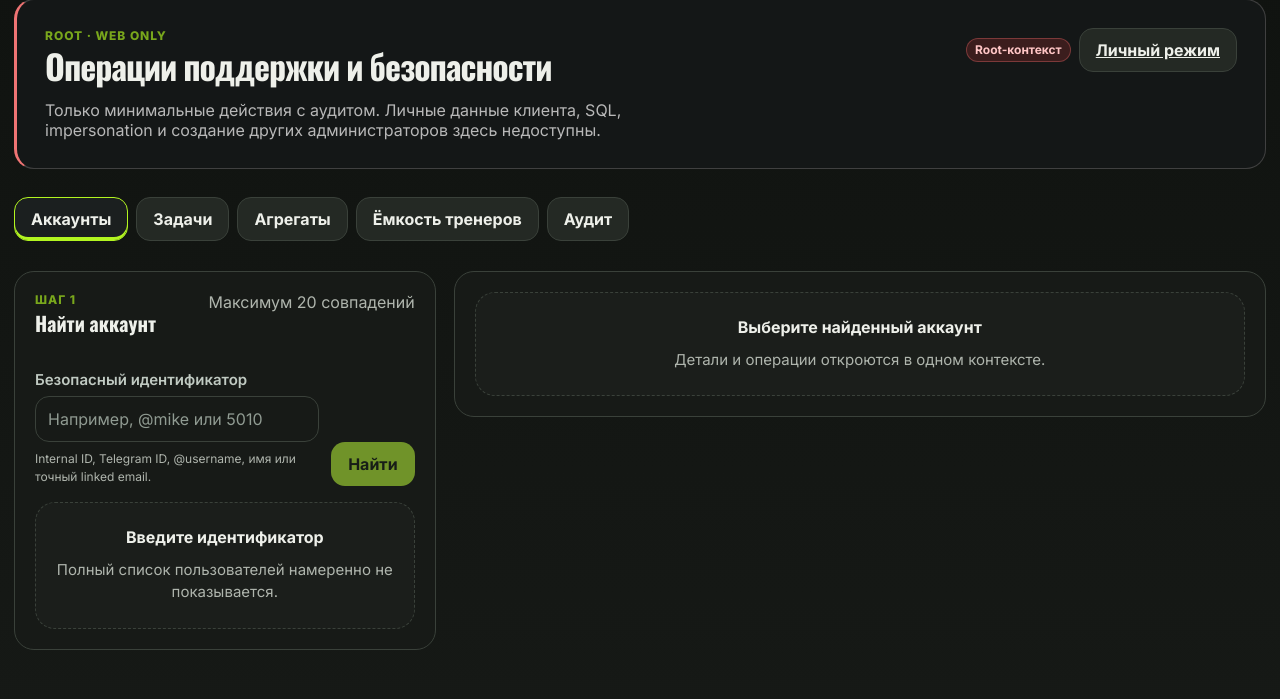
AdminPage › ведёт Root по одному scan path от поиска к деталям и безопасным status rows
Type "@long_support_identifier" into the search field labelled "Безопасный идентификатор" at {"x": 177, "y": 419}, box [35,396,319,442]
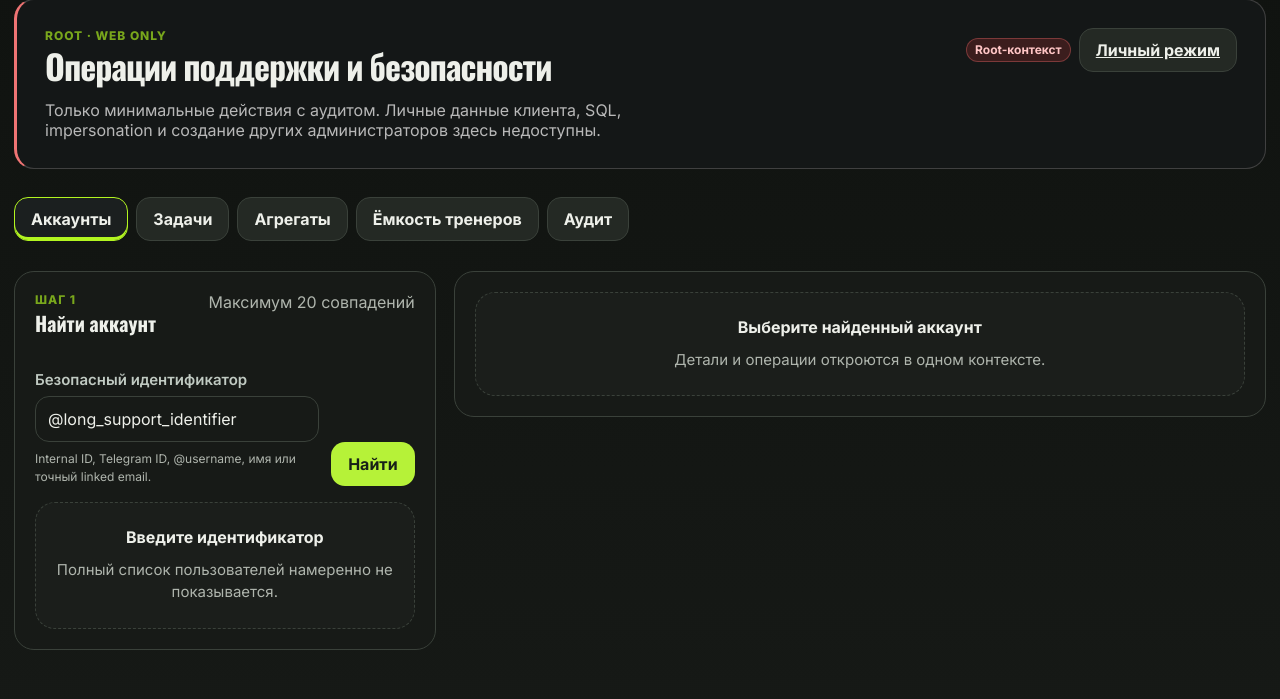
Click the button "Найти" at {"x": 373, "y": 464}, box [331,442,415,486]
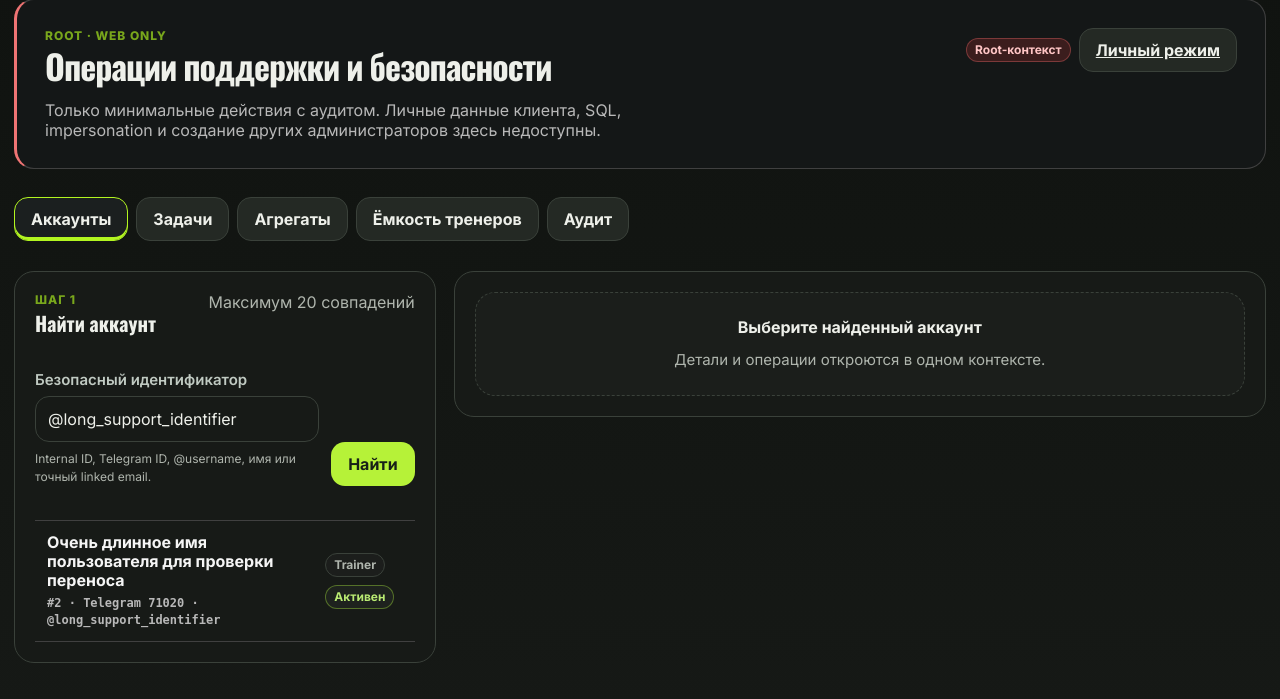
Click the button "Очень длинное имя пользователя для проверки переноса" at {"x": 127, "y": 542}, box [35,521,415,641]
(page scrolled)
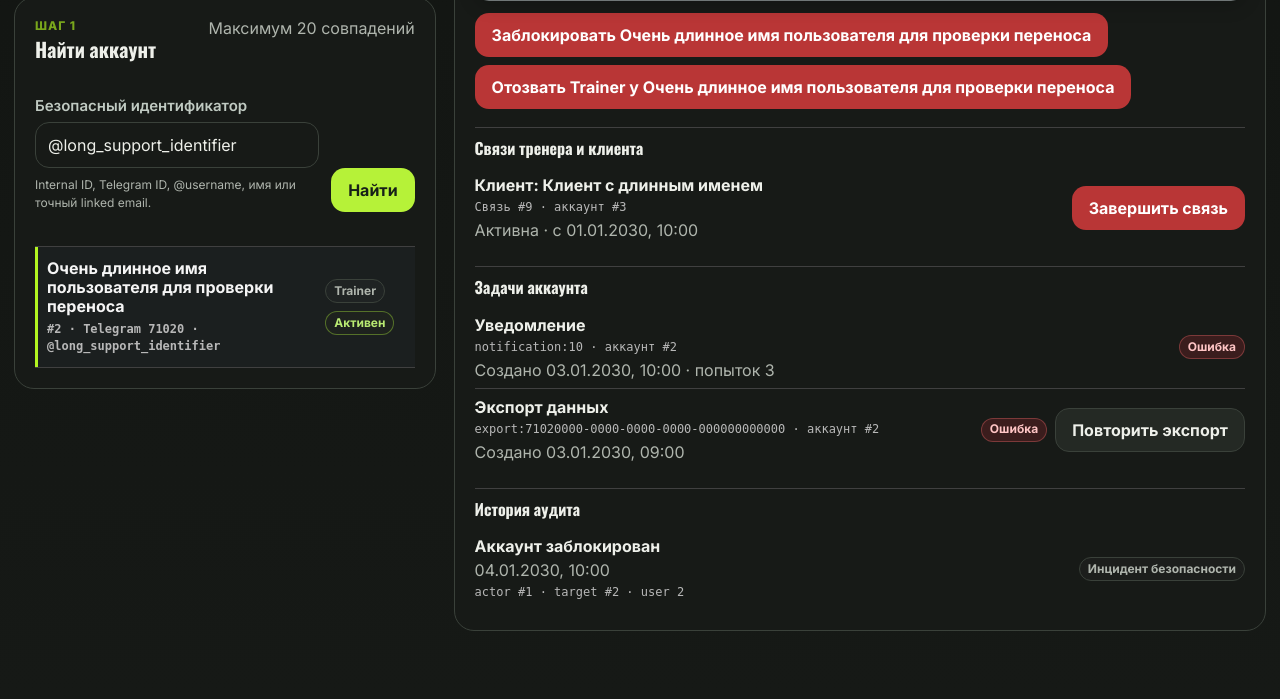
Result: the heading "История аудита" is shown at [475,500,580,520]
Result: the button "Повторить экспорт" is shown at [1055,408,1245,452]
